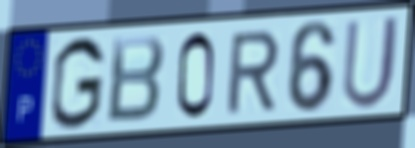0: (176, 29, 216, 122)
6: (284, 18, 339, 116)
B: (105, 32, 168, 126)
G: (48, 34, 107, 133)
R: (224, 26, 282, 117)
U: (339, 12, 403, 113)
